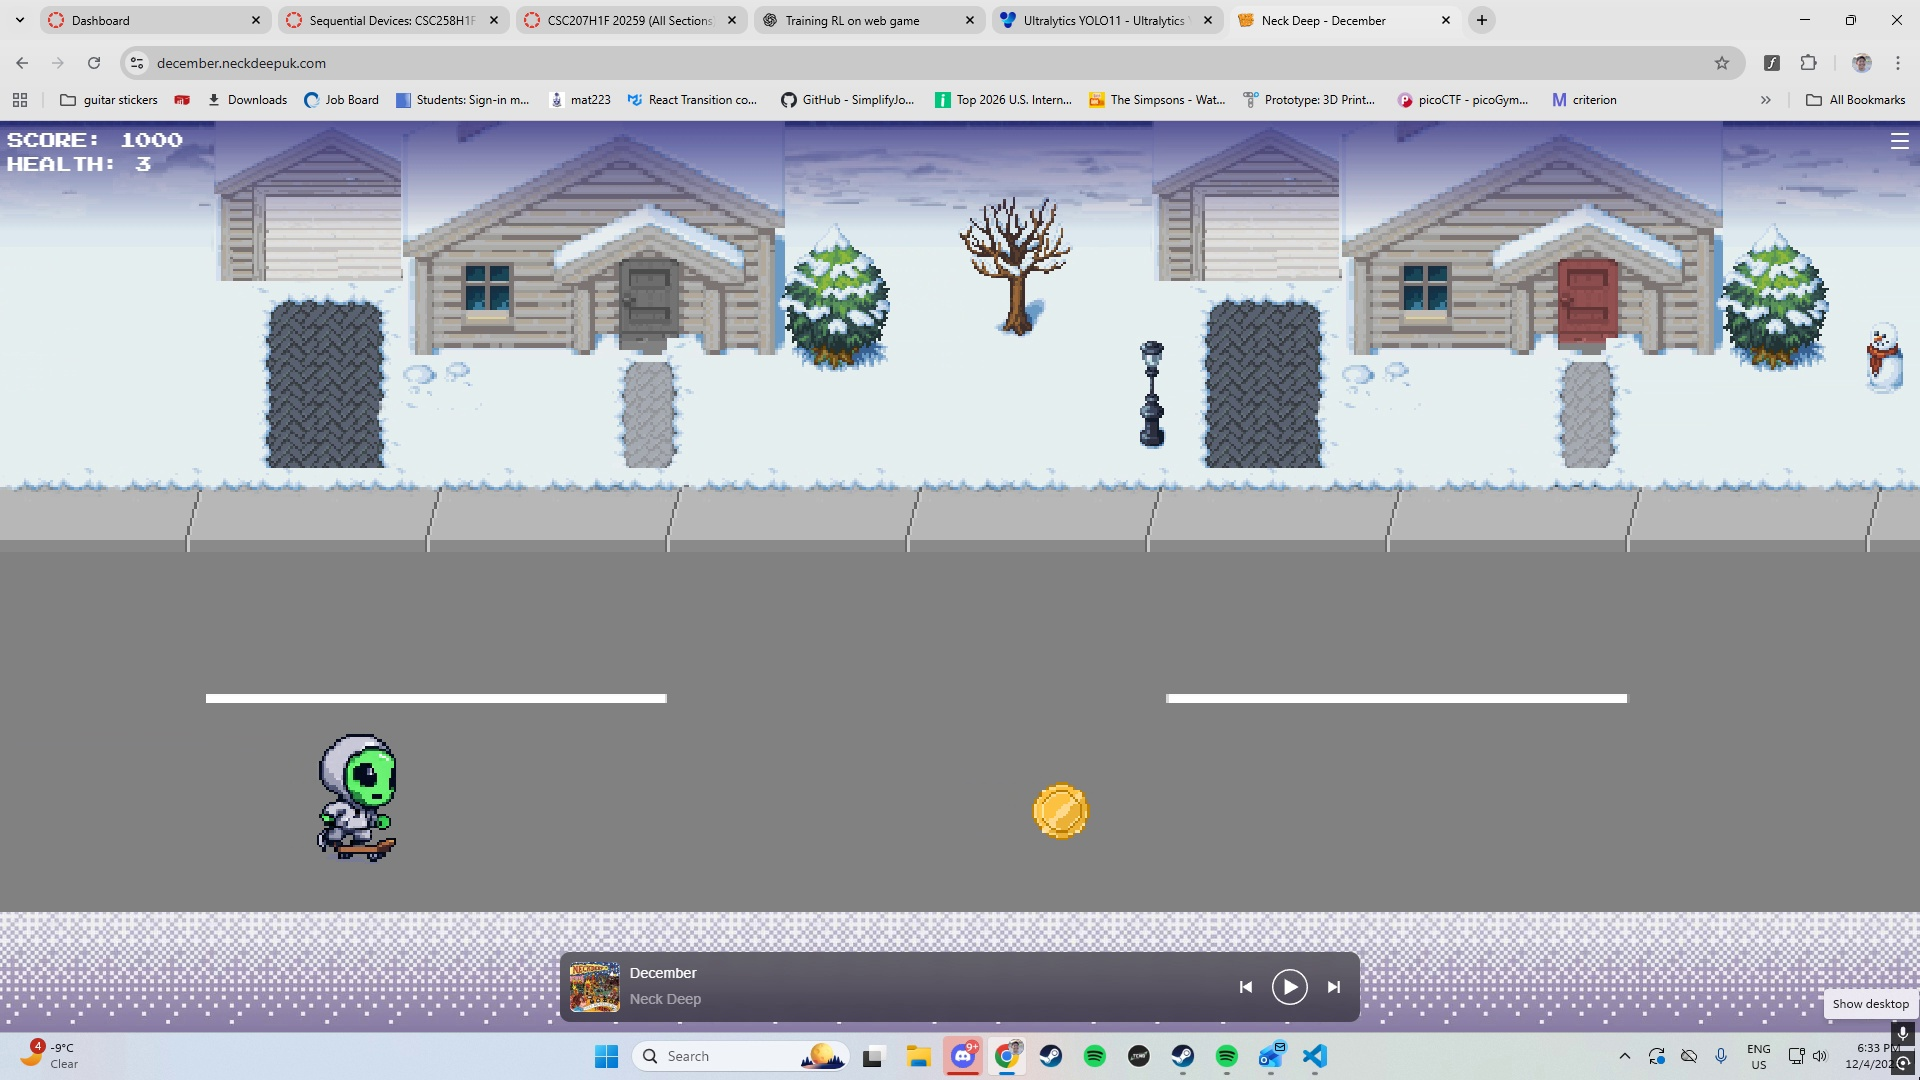Coin: (1024, 779, 1098, 842)
Player: (312, 726, 406, 872)
